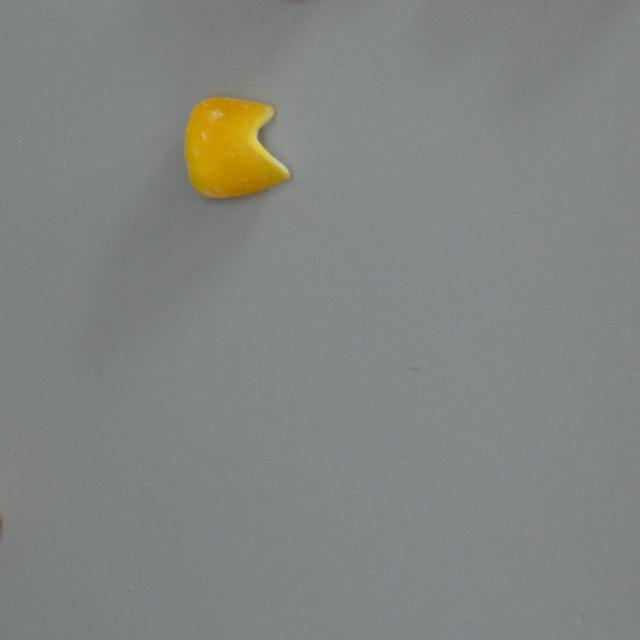no_canjicado: (183, 95, 290, 198)
